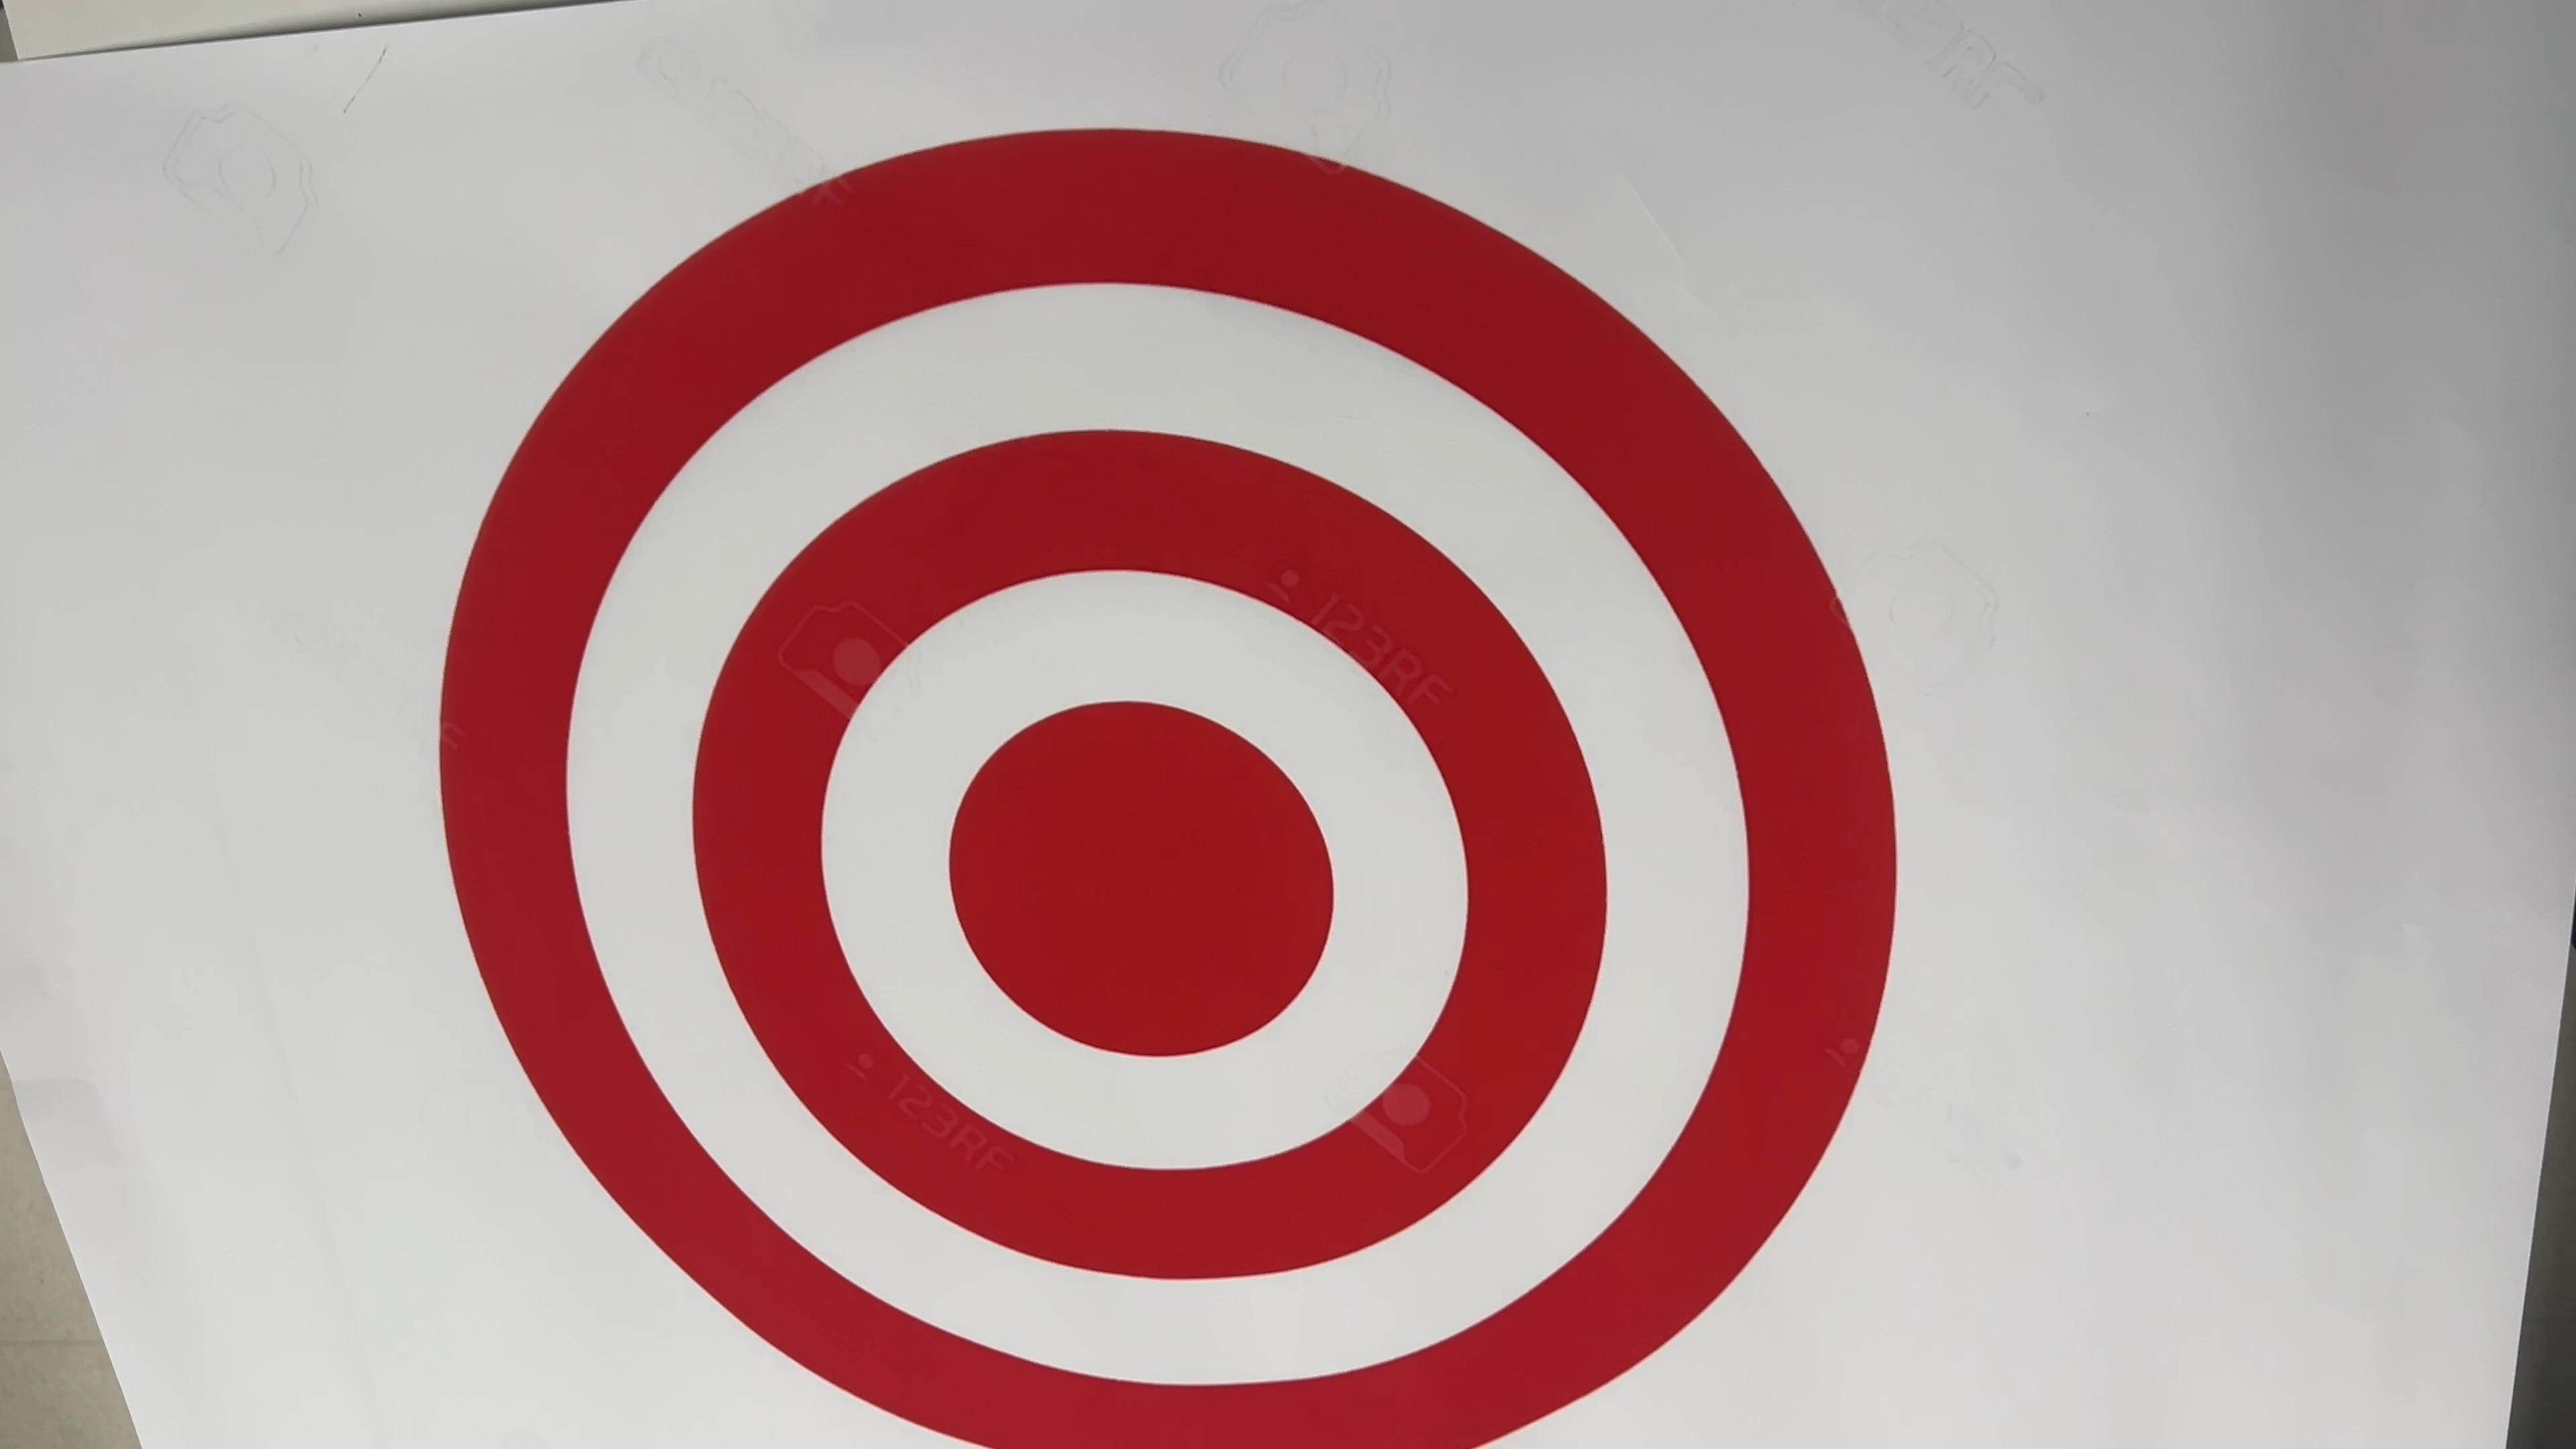target_red: (403, 145, 1930, 1449)
